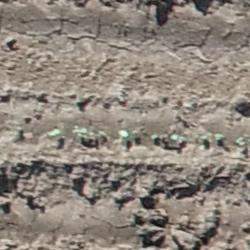cotton: (74, 128, 86, 137), (215, 133, 224, 141), (49, 129, 59, 136), (171, 133, 179, 141), (121, 130, 128, 139), (201, 135, 208, 143), (152, 134, 158, 139)
